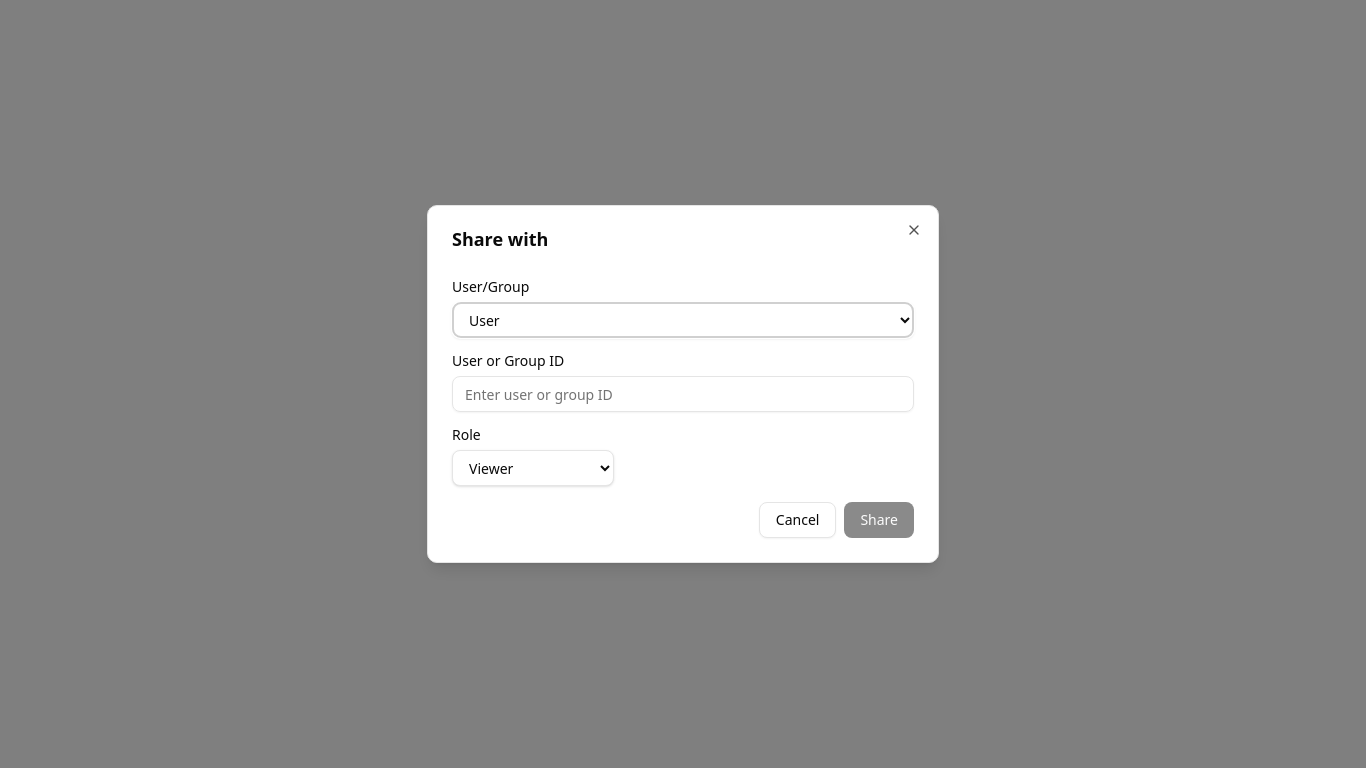
Scenario: GrantDialog › should enable Share button when granteeId is filled
Type "some-uuid" into the field labelled "User or Group ID" at (683, 394), box top-left (452, 376), bottom-right (914, 412)
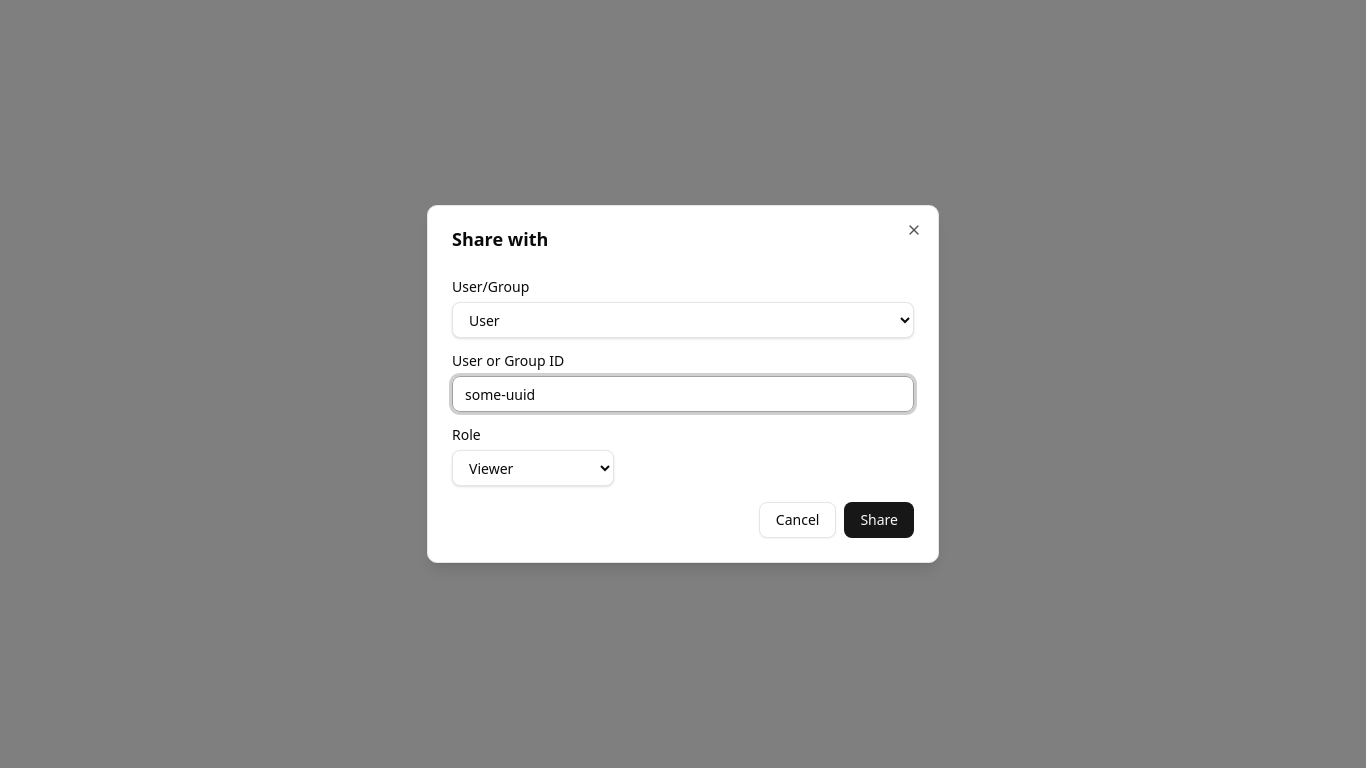
Now the button "Share" is enabled, box top-left (844, 502), bottom-right (914, 538)
